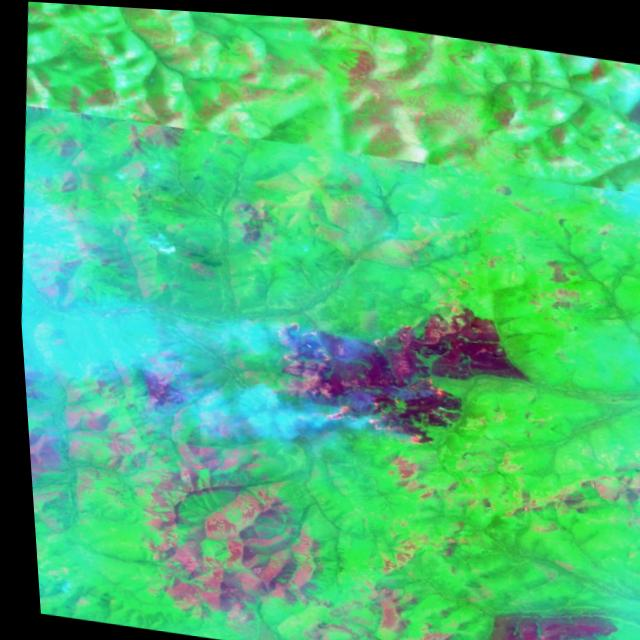fire: (291, 301, 468, 446)
